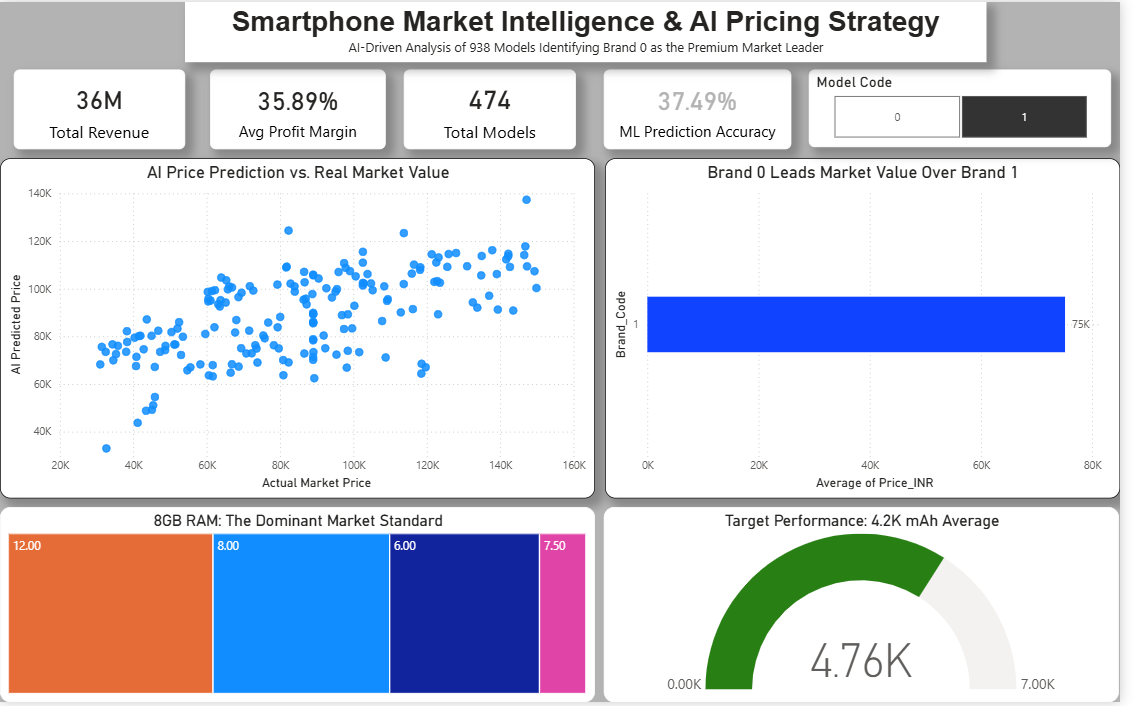

What the dashboard file says about the page in this screenshot:
{"tool":"powerbi","page":{"name":"Page 1","canvas":[1280,800],"ordinal":0},"visuals":[{"type":"card","title":"Total Revenue","fields":{"Values":["Sum(model_ready_data.Price_INR)"]},"box":[15.9,76.7,195.8,91.3],"z":0},{"type":"card","fields":{"Values":["Avg(model_ready_data.Profit_Margin)"]},"box":[239.4,76.7,201.1,91.3],"z":1000},{"type":"card","title":"Total Models","fields":{"Values":["model_ready_data.Total Models"]},"box":[461.6,76.7,197.1,91.3],"z":2000},{"type":"card","fields":{"Values":["model_ready_data.Model Accuracy"]},"box":[690.5,76.7,214.3,91.3],"z":3000},{"type":"scatterChart","title":"AI Price Prediction vs. Real Market Value","fields":{"X":["model_results_for_dashboard.Actual_Price"],"Y":["model_results_for_dashboard.Predicted_Price"]},"box":[0,178.6,679.9,388.9],"z":4000},{"type":"clusteredBarChart","title":"Brand 0 Leads Market Value Over Brand 1","fields":{"Category":["model_ready_data.Brand_Code"],"Y":["Avg(model_ready_data.Price_INR)"]},"box":[691.8,178.6,588.6,388.9],"z":5000},{"type":"slicer","title":"Model Code","fields":{"Values":["model_ready_data.Brand_Code"]},"box":[923.6,77,345.8,89.2],"z":6000},{"type":"treemap","title":"8GB RAM: The Dominant Market Standard","fields":{"Group":["model_ready_data.RAM_GB"],"Values":["CountNonNull(model_ready_data.Price_INR)"]},"box":[0,576.7,679.9,223.5],"z":7000},{"type":"gauge","title":"Target Performance: 4.2K mAh Average","fields":{"Y":["Avg(model_ready_data.Battery_mAh)"]},"box":[690.5,576.7,588.6,223.5],"z":8000},{"type":"textbox","box":[211.4,0,916.3,68.4],"z":9000}]}

Visuals, with their boxes in screenshot pixels (x1, y1, x2, y2), scaled from the page's 1280x800 canvas onto the 1134x706 screenshot:
"Total Revenue" card: (left=14, top=68, right=188, bottom=148)
card - Avg(model_ready_data.Profit_Margin): (left=212, top=68, right=390, bottom=148)
"Total Models" card: (left=409, top=68, right=584, bottom=148)
card - model_ready_data.Model Accuracy: (left=612, top=68, right=802, bottom=148)
"AI Price Prediction vs. Real Market Value" scatterChart: (left=0, top=158, right=602, bottom=501)
"Brand 0 Leads Market Value Over Brand 1" clusteredBarChart: (left=613, top=158, right=1133, bottom=501)
"Model Code" slicer: (left=818, top=68, right=1125, bottom=147)
"8GB RAM: The Dominant Market Standard" treemap: (left=0, top=509, right=602, bottom=705)
"Target Performance: 4.2K mAh Average" gauge: (left=612, top=509, right=1133, bottom=705)
textbox: (left=187, top=0, right=999, bottom=60)
